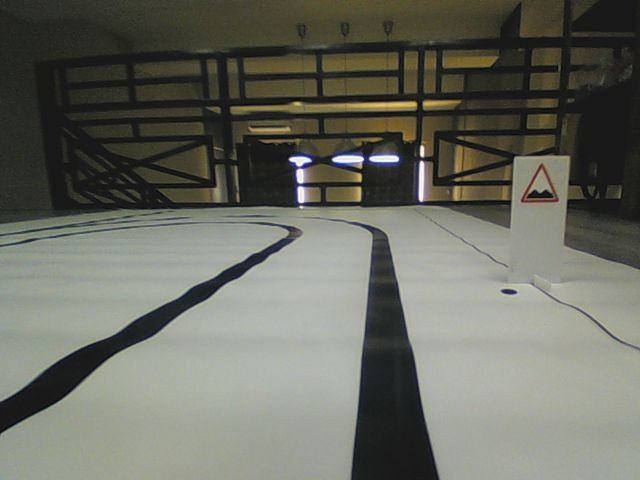Nerov: (519, 161, 561, 204)
